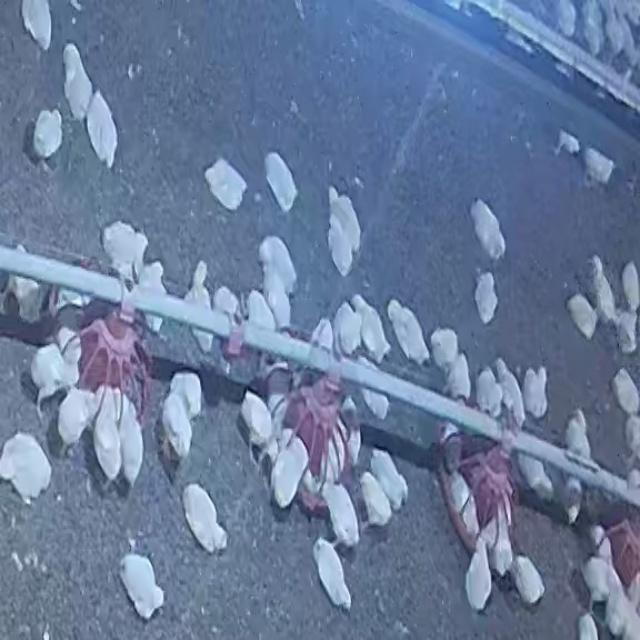chicken: (28, 339, 79, 415), (0, 431, 53, 504), (118, 550, 166, 622), (92, 388, 127, 486), (182, 482, 228, 554), (3, 246, 43, 324), (100, 220, 148, 282), (312, 537, 352, 611), (270, 437, 310, 508), (183, 264, 215, 352), (328, 179, 365, 255), (56, 385, 97, 453), (354, 296, 394, 364), (85, 90, 119, 169), (160, 387, 195, 463), (118, 397, 146, 490), (388, 298, 427, 362), (368, 448, 408, 509), (469, 198, 507, 262), (322, 480, 359, 545), (62, 42, 93, 119), (136, 260, 169, 331), (208, 154, 247, 213), (356, 360, 393, 422), (262, 149, 299, 210), (239, 390, 275, 450), (464, 541, 494, 612), (516, 453, 556, 506), (508, 553, 546, 606), (211, 284, 241, 350), (588, 256, 617, 323), (358, 472, 393, 527), (496, 360, 526, 424), (260, 232, 294, 288), (449, 474, 483, 530), (168, 370, 204, 422), (32, 107, 64, 160), (429, 326, 462, 376), (583, 554, 616, 604), (332, 301, 360, 358), (566, 294, 599, 341), (522, 363, 549, 418), (564, 409, 592, 462), (246, 289, 277, 336), (326, 218, 351, 276), (611, 366, 640, 415), (475, 365, 502, 417), (582, 146, 616, 187), (474, 271, 499, 326), (447, 354, 472, 403), (616, 310, 640, 356), (561, 466, 581, 520), (582, 13, 604, 59), (620, 260, 640, 310), (557, 0, 577, 39), (624, 414, 640, 457)
